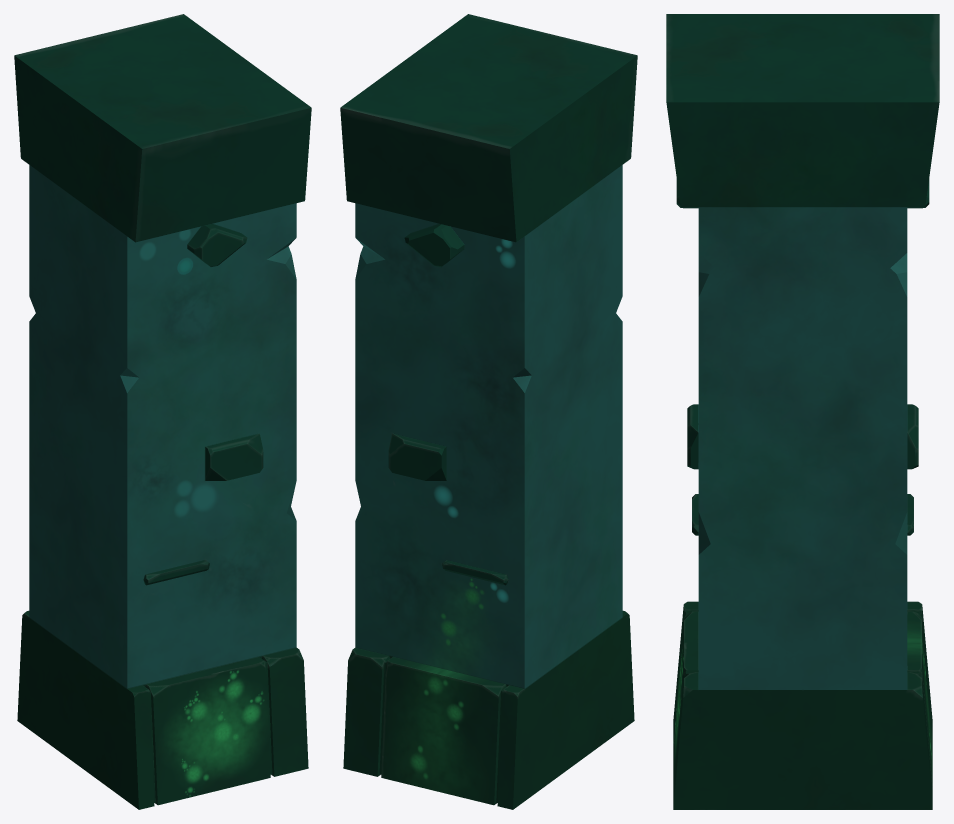
Rendered from WallType2.fbx.
3 renders of one model, left to right at view 1: azimuth 30°, elevation 25°; view 2: azimuth 150°, elevation 25°; view 3: azimuth 270°, elevation 25°, orthographic. The views are drawn at different scales.
Visible parts, largest first — view 1: Cube.003; view 2: Cube.003; view 3: Cube.003.
Part boxes in pixels (x1,y1,x2,y2): Cube.003: (14,14,311,809); Cube.003: (340,14,637,809); Cube.003: (666,14,939,809).
Size of the model in its own units: 200 by 748 by 262.
1 material, 1 textured.
